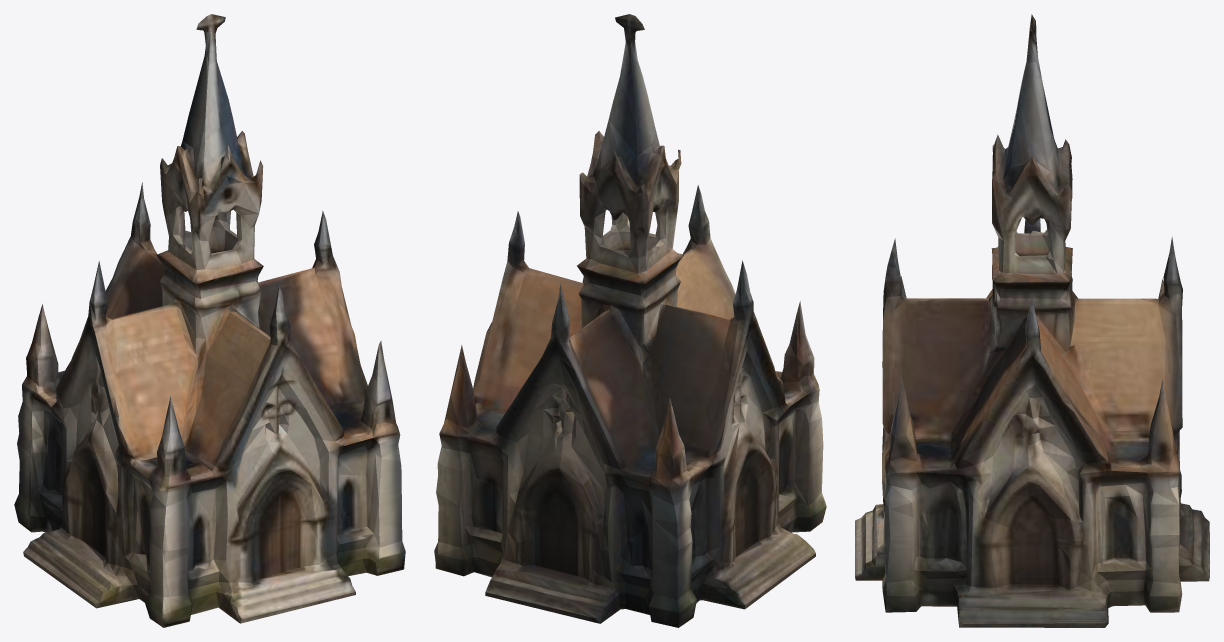
Rendered from church_spire_tan_lod1.glb.
3 renders of one model, left to right at view 1: azimuth 30°, elevation 25°; view 2: azimuth 150°, elevation 25°; view 3: azimuth 270°, elevation 25°, orthographic.
Visible parts, largest first — view 1: church_spire_tan_lod1; view 2: church_spire_tan_lod1; view 3: church_spire_tan_lod1.
Boxes of the visible parts, bbox=[...] form: church_spire_tan_lod1: bbox=[14, 14, 405, 627]; church_spire_tan_lod1: bbox=[434, 14, 826, 627]; church_spire_tan_lod1: bbox=[855, 14, 1209, 627].
Size of the model in its own units: 8.29 by 13.93 by 8.32.
Materials: 1 (1 with a texture image).
